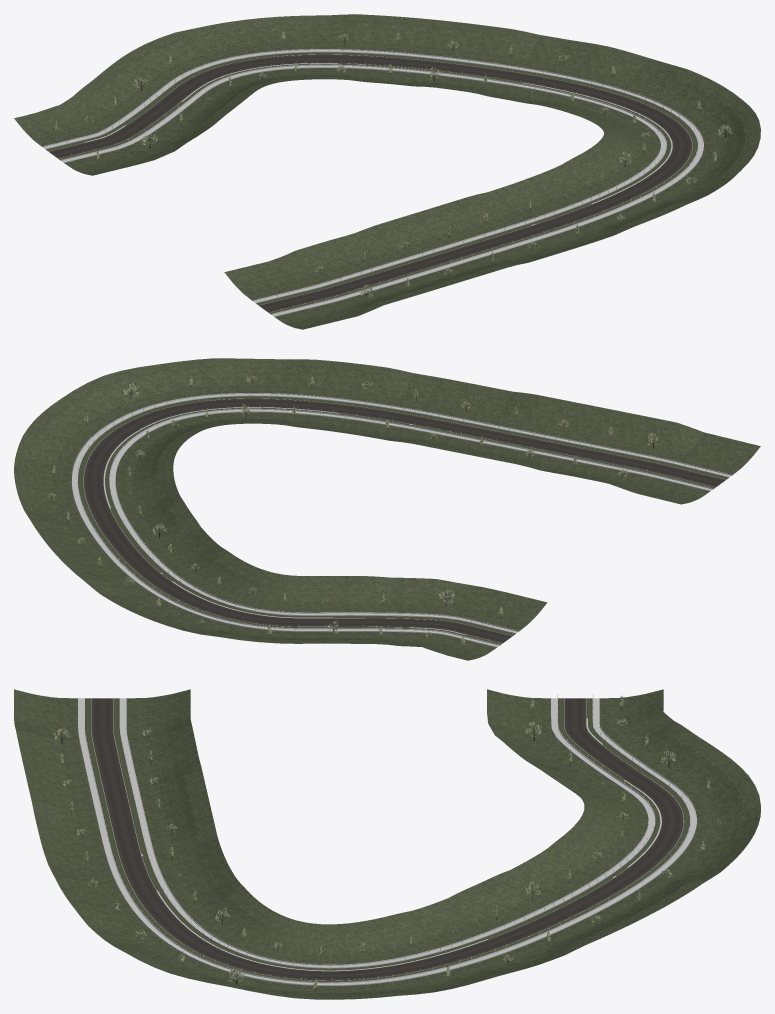
3 views of the same model, one above another, from view 1: azimuth 30°, elevation 25°; view 2: azimuth 150°, elevation 25°; view 3: azimuth 270°, elevation 25° (orthographic). The views are drawn at different scales.
Visible parts, largest first — view 1: Grass, Road, Track, Trees, Curbs; view 2: Grass, Road, Track, Trees, Curbs; view 3: Grass, Road, Track, Trees, Curbs.
Part boxes in pixels (left/top/right/bottom): Grass: left=14, top=14, right=760, bottom=329; Road: left=49, top=54, right=692, bottom=312; Track: left=42, top=48, right=703, bottom=316; Trees: left=54, top=30, right=732, bottom=300; Curbs: left=88, top=63, right=672, bottom=202; Grass: left=14, top=358, right=760, bottom=660; Road: left=83, top=398, right=725, bottom=643; Track: left=71, top=392, right=731, bottom=647; Trees: left=46, top=375, right=658, bottom=648; Curbs: left=104, top=407, right=461, bottom=633; Grass: left=14, top=689, right=760, bottom=999; Road: left=91, top=698, right=683, bottom=980; Track: left=78, top=694, right=696, bottom=985; Trees: left=53, top=696, right=720, bottom=992; Curbs: left=158, top=720, right=661, bottom=970.
Size of what is drawn, in the model's own units: 58225 by 2236 by 59214.
